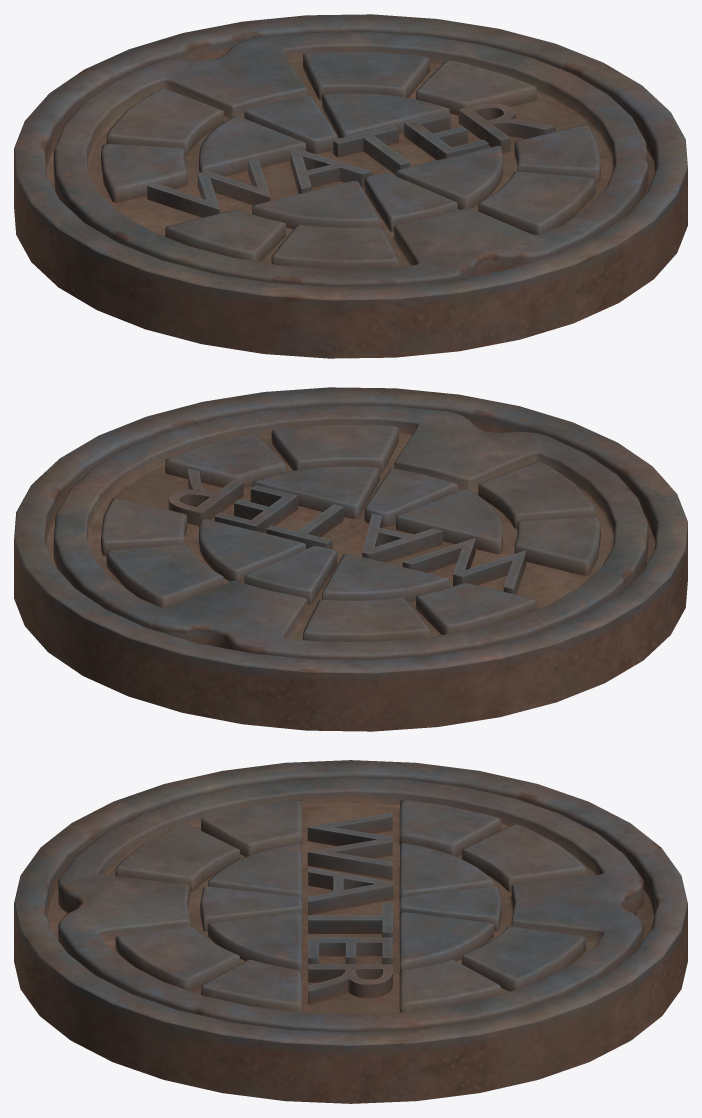
The model's file is water_manhole_cover.glb.
3 views of the same model, one above another, from view 1: azimuth 30°, elevation 25°; view 2: azimuth 150°, elevation 25°; view 3: azimuth 270°, elevation 25° (orthographic).
Parts seen in each view (by area): view 1: water_manhole_cover, water_manhole_cover_frame; view 2: water_manhole_cover, water_manhole_cover_frame; view 3: water_manhole_cover, water_manhole_cover_frame.
Part boxes in pixels (x1,y1,x2,y2): water_manhole_cover: (53, 32, 648, 286); water_manhole_cover_frame: (14, 14, 687, 358); water_manhole_cover: (53, 405, 648, 659); water_manhole_cover_frame: (14, 387, 687, 731); water_manhole_cover: (58, 777, 643, 1032); water_manhole_cover_frame: (14, 760, 687, 1103).
Bounding box in the file's own units: 0.6908 × 0.0676 × 0.6908.
1 material, 1 textured.
